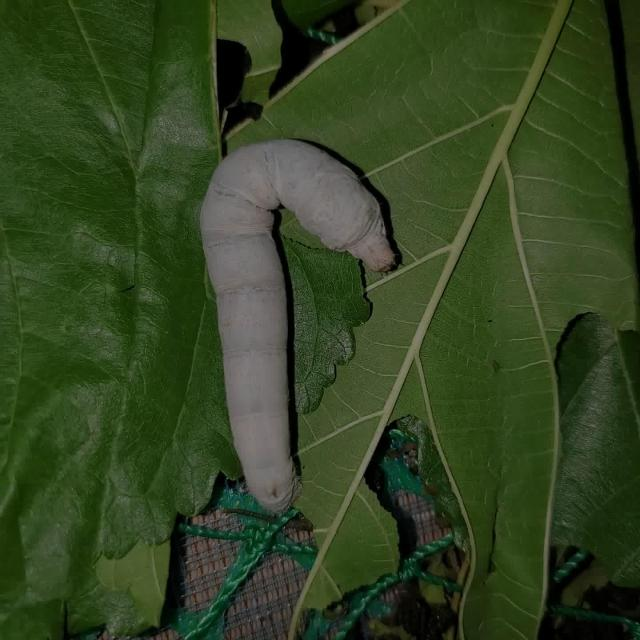Healthy: (178, 116, 451, 540)
